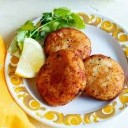cutlet: (41, 50, 85, 108), (82, 55, 127, 100), (45, 27, 92, 57)
